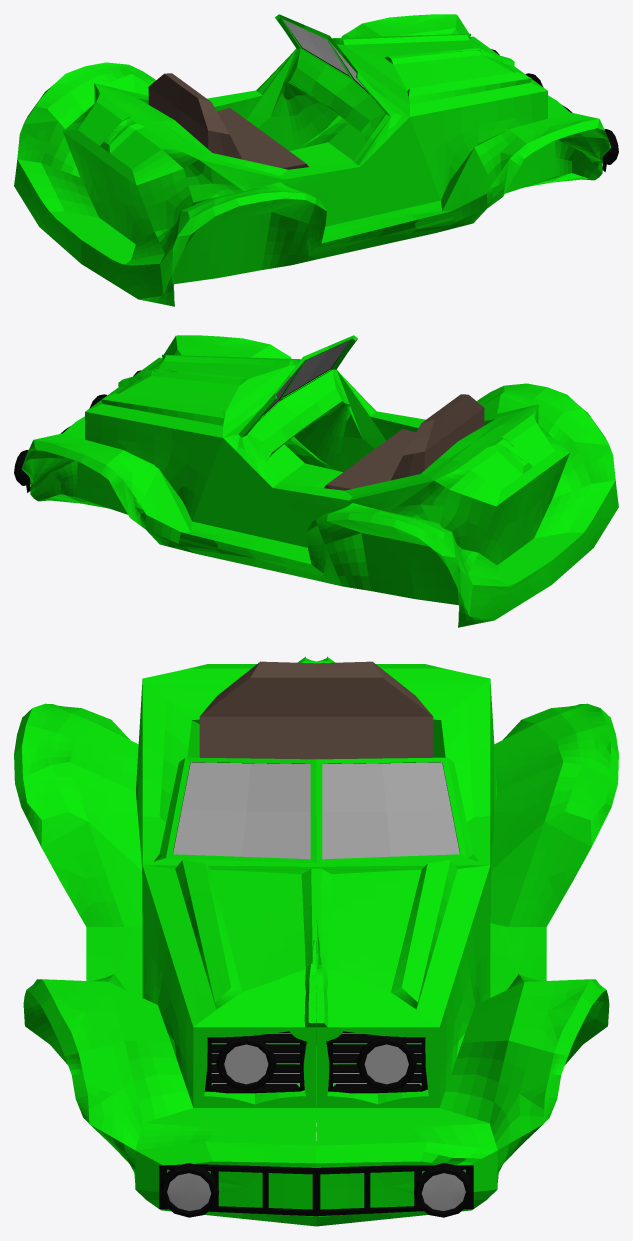
File: car_body.fbx
The picture shows the model from 3 angles, top to bottom: view 1: azimuth 30°, elevation 25°; view 2: azimuth 150°, elevation 25°; view 3: azimuth 270°, elevation 25°; orthographic projection. The views are drawn at different scales.
Visible parts, largest first — view 1: car_body; view 2: car_body; view 3: car_body.
Part boxes in pixels (<box>): car_body: <box>14,14,618,306</box>; car_body: <box>14,335,618,627</box>; car_body: <box>14,656,618,1226</box>.
Bounding box in the file's own units: 386 × 128 × 246.
